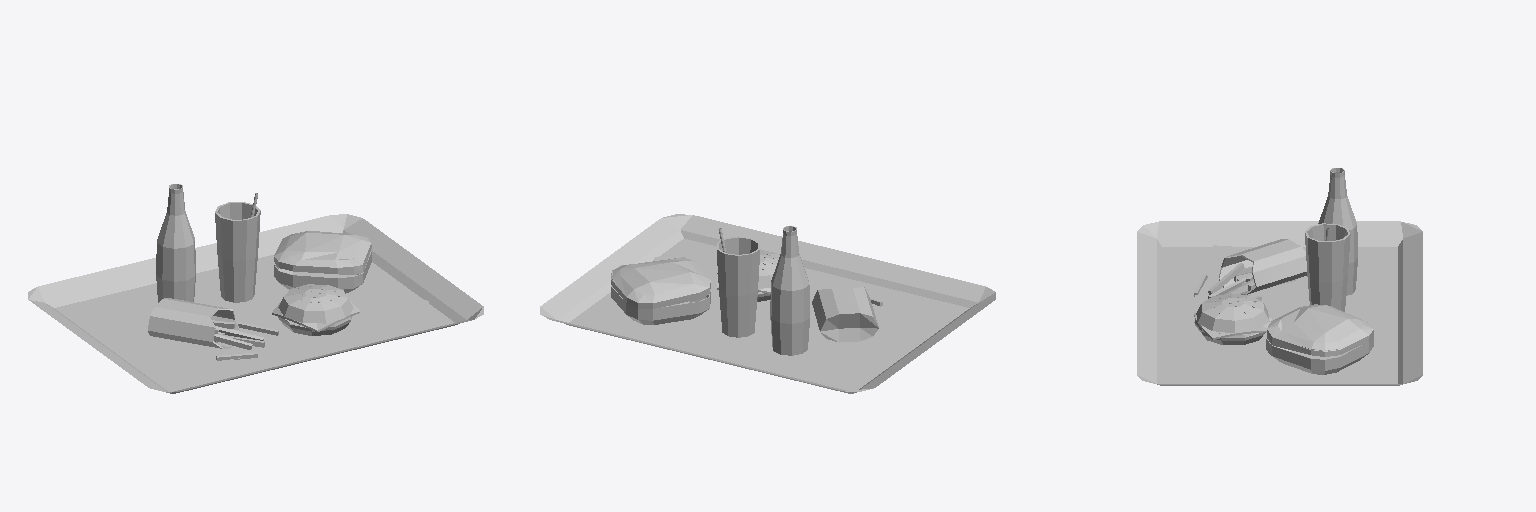
File: FastFood.obj
3 renders of one model, left to right at view 1: azimuth 30°, elevation 25°; view 2: azimuth 150°, elevation 25°; view 3: azimuth 270°, elevation 25°, orthographic.
Parts seen in each view (by area): view 1: Plane, Plane.001_Plane.003, Plane.002_Plane.004, Cube.014_Cube.020, Cylinder.001, Cylinder, Cylinder.002, Cube_Cube.001; view 2: Plane, Plane.002_Plane.004, Cube.014_Cube.020, Cylinder, Cylinder.001, Plane.001_Plane.003, Cube_Cube.001, Cylinder.002; view 3: Plane, Cube.014_Cube.020, Plane.001_Plane.003, Cylinder.001, Plane.002_Plane.004, Cylinder.002, Cube_Cube.001, Cylinder.
Part boxes in pixels (left/top/right/bottom): Plane: left=28, top=214, right=483, bottom=393; Plane.001_Plane.003: left=194, top=266, right=428, bottom=352; Plane.002_Plane.004: left=85, top=283, right=298, bottom=373; Cube.014_Cube.020: left=274, top=231, right=371, bottom=293; Cylinder.001: left=215, top=202, right=260, bottom=302; Cylinder: left=156, top=184, right=195, bottom=302; Cylinder.002: left=272, top=284, right=359, bottom=335; Cube_Cube.001: left=148, top=298, right=239, bottom=348; Plane: left=540, top=214, right=995, bottom=393; Plane.002_Plane.004: left=701, top=282, right=941, bottom=381; Cube.014_Cube.020: left=611, top=257, right=710, bottom=324; Cylinder: left=770, top=226, right=809, bottom=355; Cylinder.001: left=717, top=236, right=760, bottom=337; Plane.001_Plane.003: left=611, top=257, right=818, bottom=344; Cube_Cube.001: left=812, top=287, right=878, bottom=342; Cylinder.002: left=717, top=250, right=779, bottom=301; Plane: left=1137, top=221, right=1422, bottom=385; Cube.014_Cube.020: left=1266, top=304, right=1373, bottom=374; Plane.001_Plane.003: left=1175, top=300, right=1382, bottom=383; Cylinder.001: left=1305, top=223, right=1350, bottom=311; Plane.002_Plane.004: left=1189, top=245, right=1385, bottom=319; Cylinder.002: left=1194, top=293, right=1271, bottom=344; Cube_Cube.001: left=1219, top=239, right=1306, bottom=294; Cylinder: left=1318, top=168, right=1357, bottom=295.
Bounding box in the file's own units: 14.58 × 5.04 × 10.82.